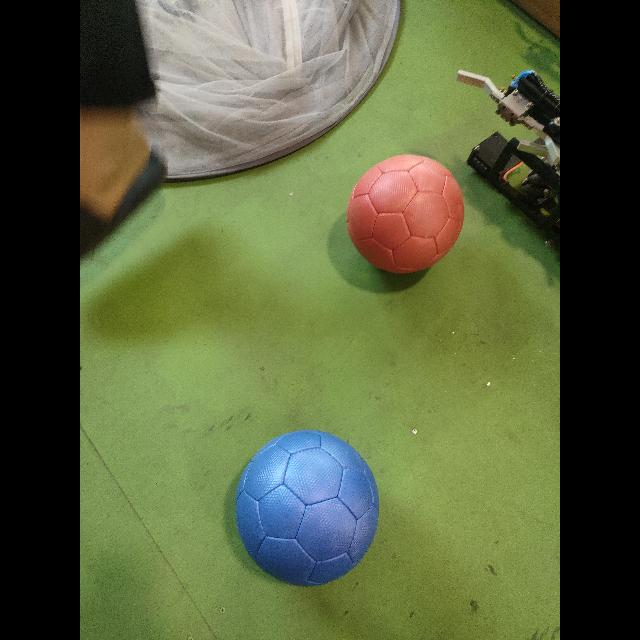B: (228, 431, 380, 590)
R: (346, 155, 466, 278)
